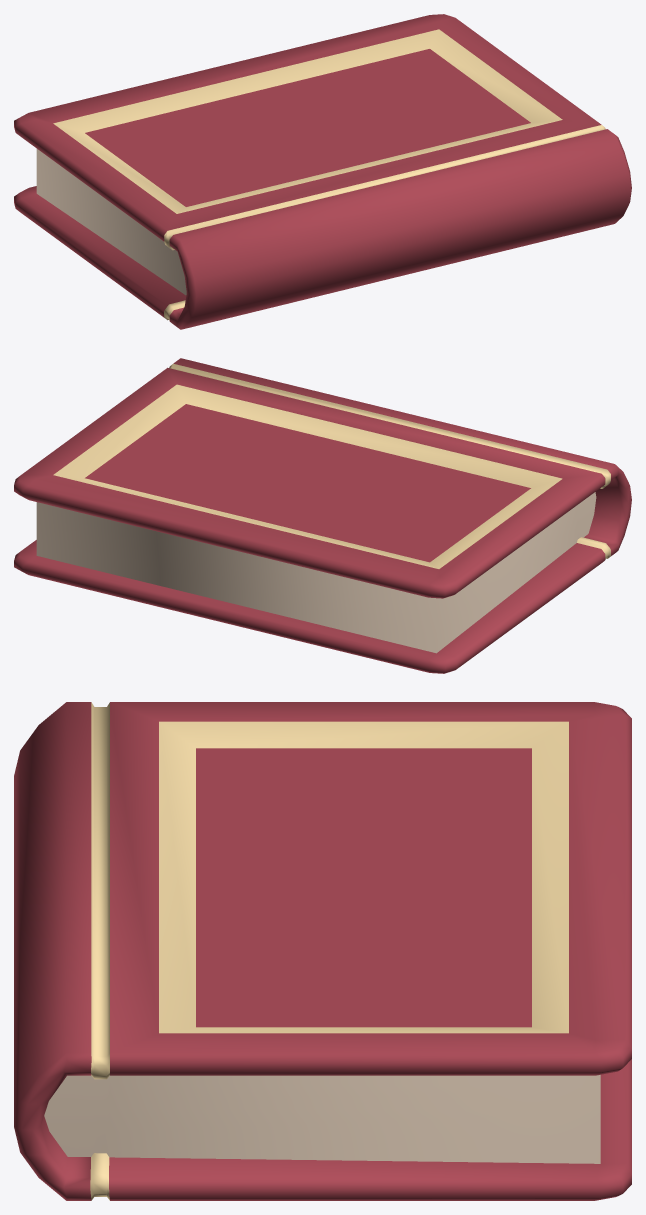
Rendered from book_red.fbx.
The picture shows the model from 3 angles, top to bottom: view 1: azimuth 30°, elevation 25°; view 2: azimuth 150°, elevation 25°; view 3: azimuth 270°, elevation 25°; orthographic projection. The views are drawn at different scales.
Parts seen in each view (by area): view 1: Cube.001; view 2: Cube.001; view 3: Cube.001.
Part boxes in pixels (bbox=[...]): Cube.001: bbox=[14, 14, 631, 329]; Cube.001: bbox=[14, 358, 631, 673]; Cube.001: bbox=[14, 702, 631, 1200].
Size of the model in its own units: 91.83 by 17.78 by 67.28.
